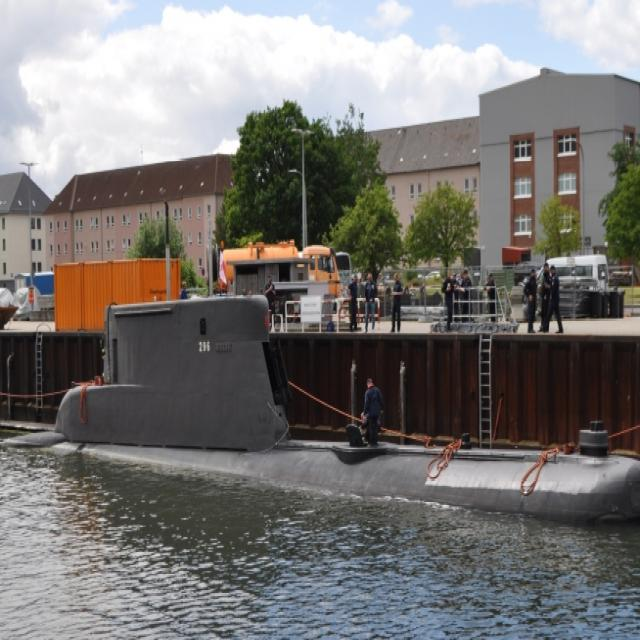submarine: (16, 296, 640, 516)
